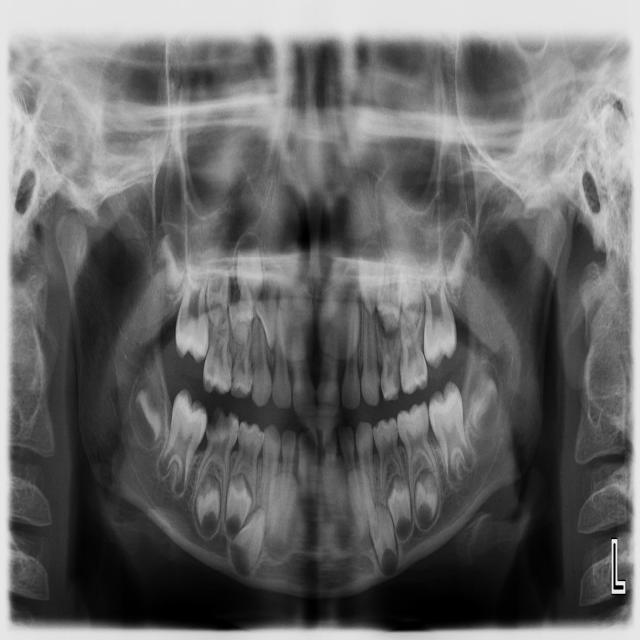mandibula: (56, 202, 567, 595)
